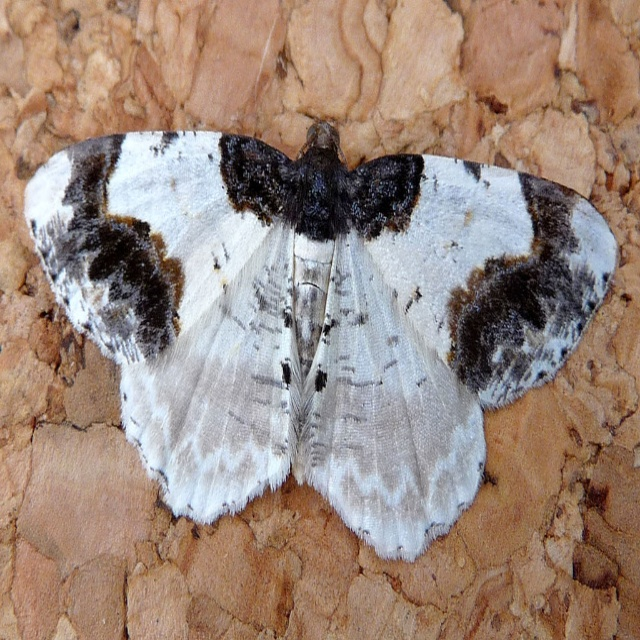Butterfly: (22, 131, 620, 560)
